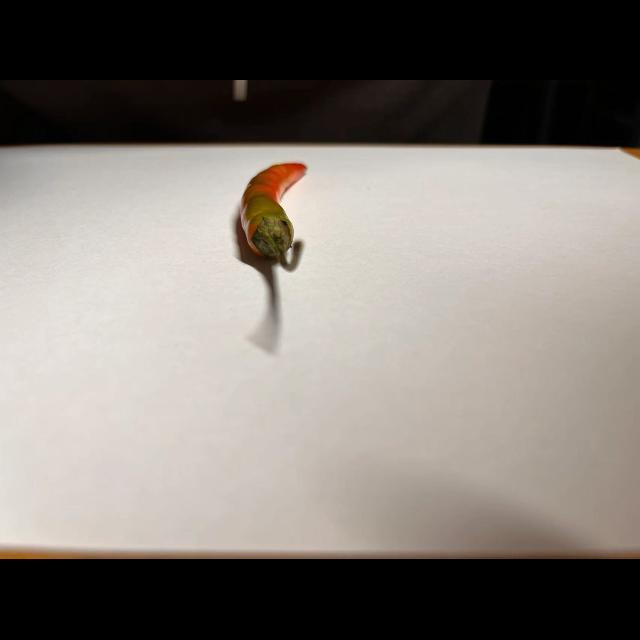chili_pepper: (228, 159, 320, 276)
